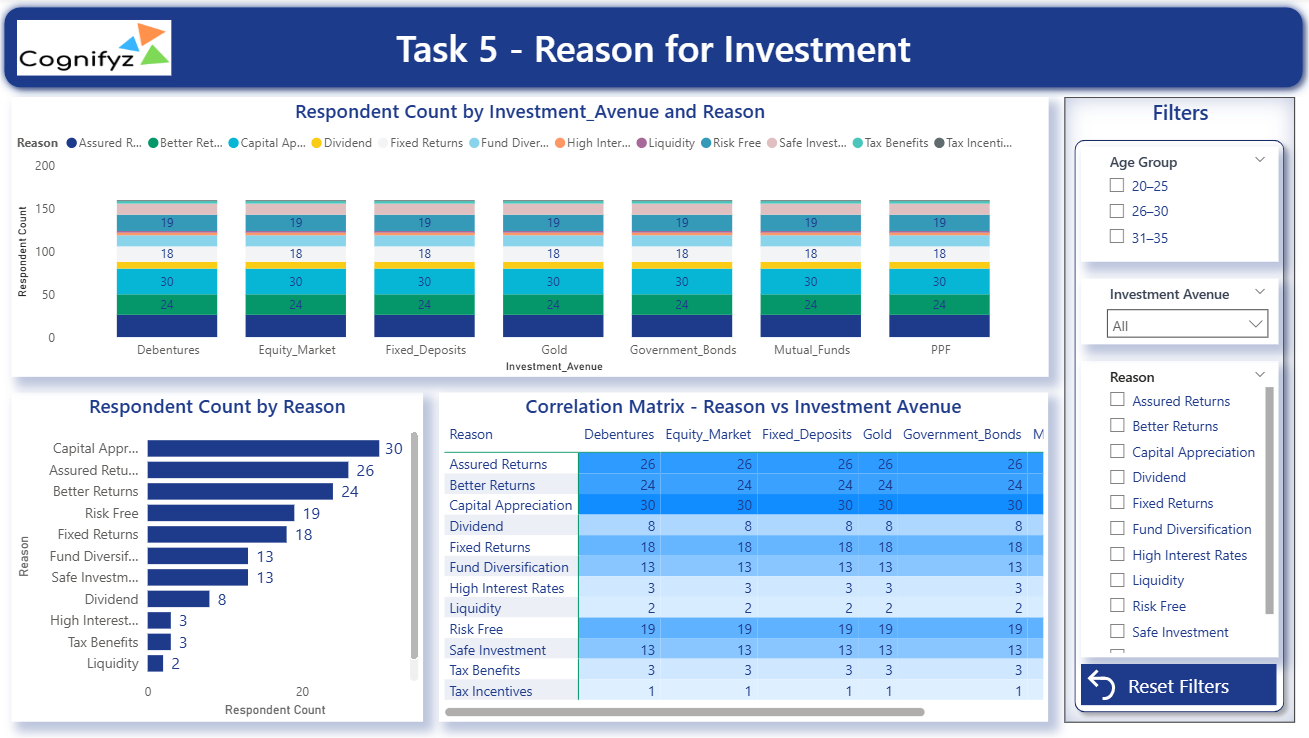

The page's visual inventory and layout, read from the dashboard file:
{"tool":"powerbi","page":{"name":"Task 5","canvas":[1280,720],"ordinal":4},"visuals":[{"type":"shape","title":"Filters","box":[1040,96,224,608],"z":0,"group":"g1"},{"type":"barChart","fields":{"Category":["Survey.Reason"],"Y":["Survey.Respondent Count"]},"box":[16,384,400,320],"z":0},{"type":"shape","title":"Task 4 – Investment Duration & Monitoring Frequency","box":[0,0,1280,96],"z":1000},{"type":"image","box":[16,16,160,64],"z":2000},{"type":"group","id":"g1","title":"Group 1","box":[1040,96,224,608],"z":3000},{"type":"columnChart","fields":{"Category":["Survey.Investment_Avenue"],"Series":["Survey.Reason"],"Y":["Survey.Respondent Count"]},"box":[16,96,1008,272],"z":4000},{"type":"pivotTable","title":"Correlation Matrix - Reason vs Investment Avenue","fields":{"Rows":["Survey.Reason"],"Values":["Survey.Respondent Count"],"Columns":["Survey.Investment_Avenue"]},"box":[432,384,592,320],"z":5000},{"type":"actionButton","box":[1056,648,190,40],"z":5001},{"type":"slicer","title":"Age ","fields":{"Values":["Survey.AgeGroup"]},"box":[1056,144,192,112],"z":7000,"group":"g1"},{"type":"slicer","fields":{"Values":["Survey.Reason"]},"box":[1056,352,192,288],"z":8000,"group":"g1"},{"type":"slicer","fields":{"Values":["Survey.Investment_Avenue"]},"box":[1056,272,192,64],"z":9000,"group":"g1"}]}

Visuals, with their boxes in screenshot pixels (x1, y1, x2, y2), scaled from the page's 1280x720 canvas onto the 1309x738 screenshot:
"Filters" shape: [1064, 98, 1293, 722]
barChart - Survey.Reason x Survey.Respondent Count: [16, 394, 425, 722]
"Task 4 – Investment Duration & Monitoring Frequency" shape: [0, 0, 1308, 98]
image: [16, 16, 180, 82]
"Group 1" group: [1064, 98, 1293, 722]
columnChart - Survey.Investment_Avenue x Survey.Reason: [16, 98, 1047, 377]
"Correlation Matrix - Reason vs Investment Avenue" pivotTable: [442, 394, 1047, 722]
actionButton: [1080, 664, 1274, 705]
"Age " slicer: [1080, 148, 1276, 262]
slicer - Survey.Reason: [1080, 361, 1276, 656]
slicer - Survey.Investment_Avenue: [1080, 279, 1276, 344]
